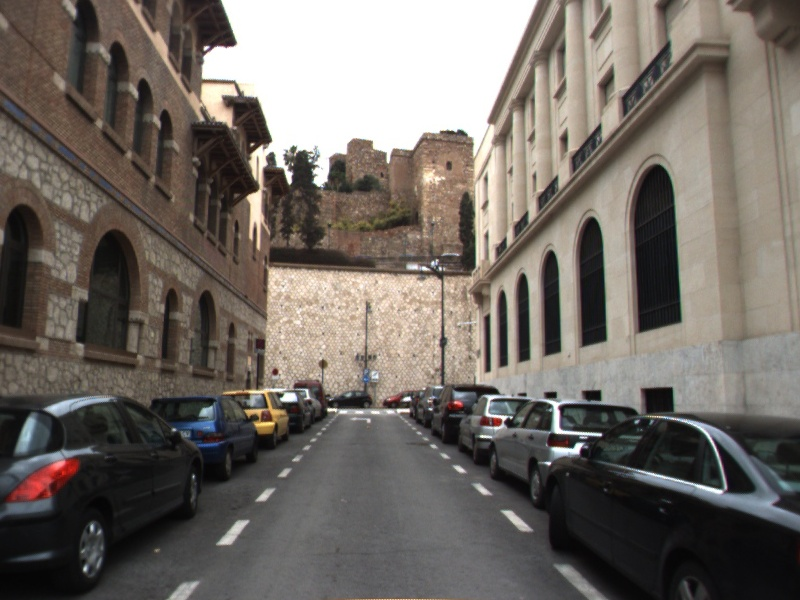LEFT: (348, 414, 373, 425)
